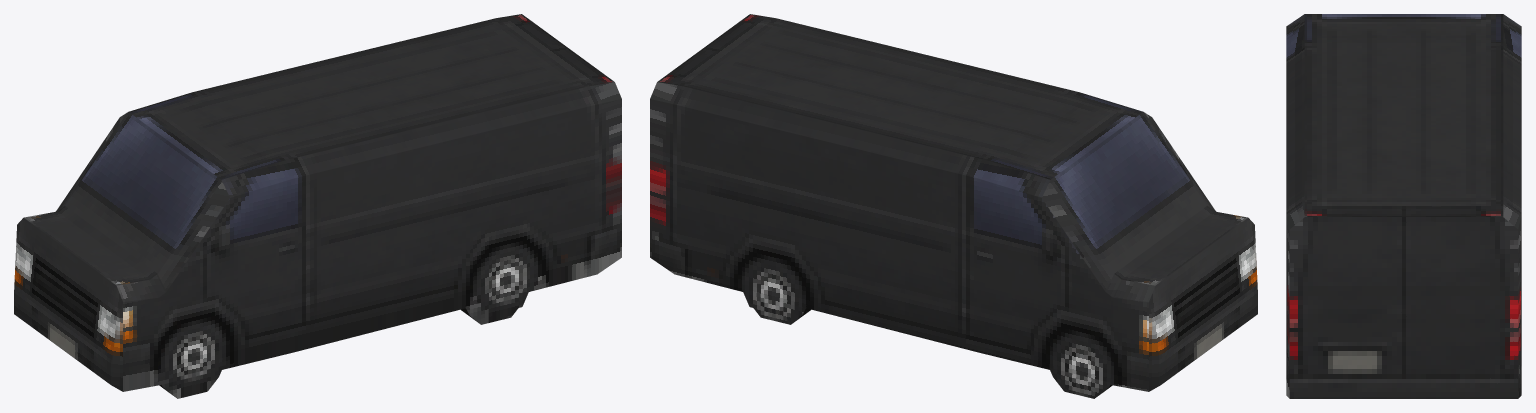
File: van_exterior.glb
The picture shows the model from 3 angles, left to right: view 1: azimuth 30°, elevation 25°; view 2: azimuth 150°, elevation 25°; view 3: azimuth 270°, elevation 25°; orthographic projection. The views are drawn at different scales.
Parts seen in each view (by area): view 1: Van; view 2: Van; view 3: Van.
Boxes of the visible parts, x1,y1,x2,y2 form: Van: (14,14,621,398); Van: (650,14,1257,398); Van: (1286,14,1521,398).
Size of the model in its own units: 4.96 by 1.91 by 1.88.
Materials: 1 (1 with a texture image).
